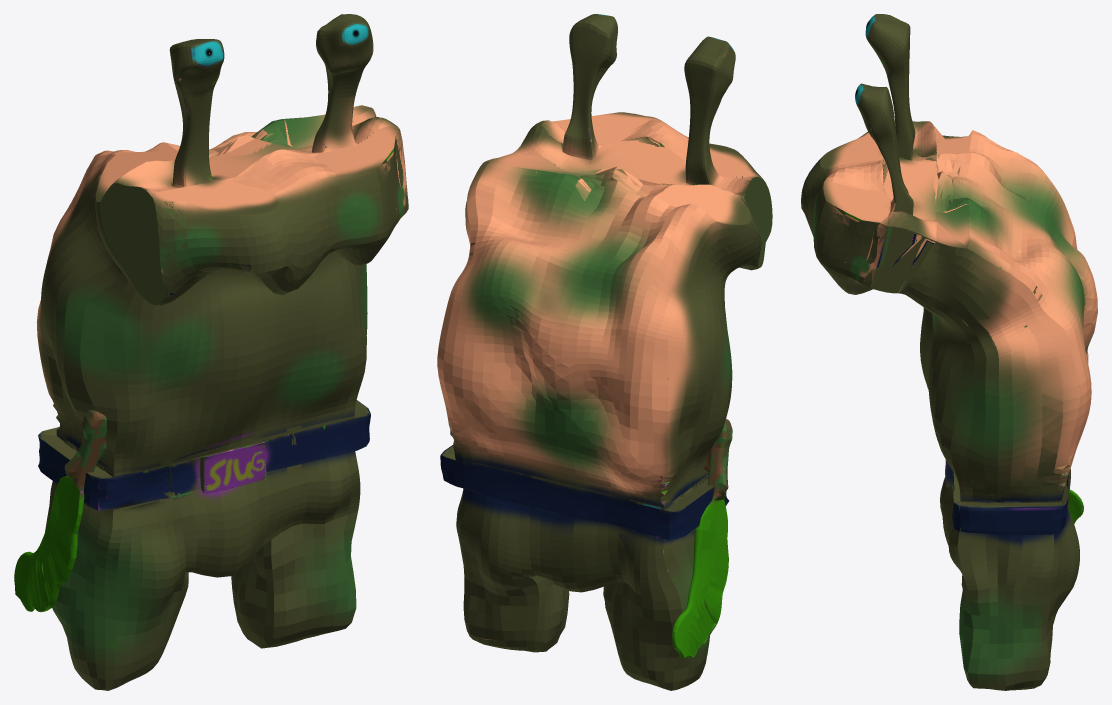
File: Slugge.fbx
3 views of the same model, side by side, from view 1: azimuth 30°, elevation 25°; view 2: azimuth 150°, elevation 25°; view 3: azimuth 270°, elevation 25° (orthographic). The views are drawn at different scales.
Visible parts, largest first — view 1: Cube; view 2: Cube; view 3: Cube.
Part boxes in pixels (box(x1,y1,x2,y2)): Cube: box(14, 14, 408, 690); Cube: box(437, 14, 772, 690); Cube: box(801, 14, 1097, 690).
Bounding box in the file's own units: 1020 × 2155 × 973.
